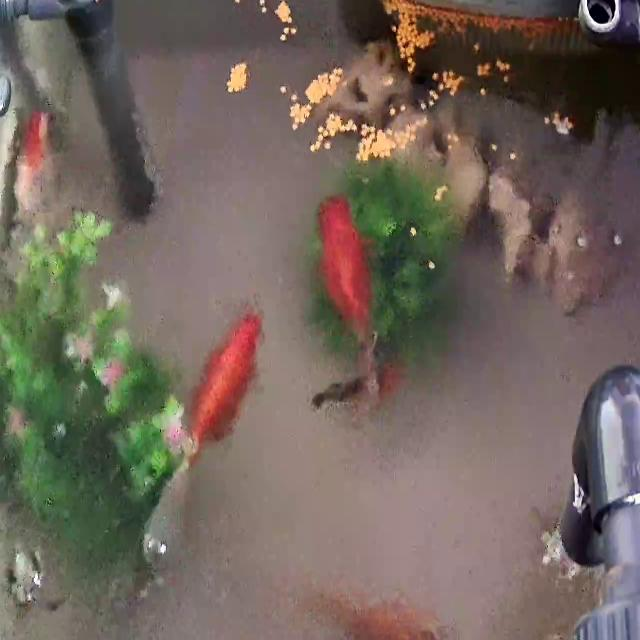fish: (132, 308, 260, 570), (319, 195, 386, 407), (318, 589, 425, 640), (16, 108, 57, 213)
